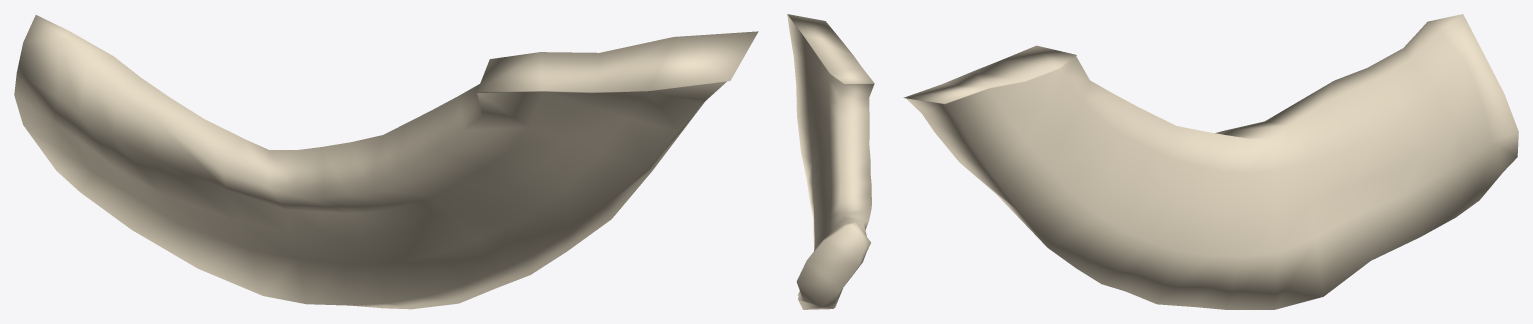
Rendered from costal-cartilage-of-tenth-rib-r.glb.
3 renders of one model, left to right at view 1: azimuth 30°, elevation 25°; view 2: azimuth 150°, elevation 25°; view 3: azimuth 270°, elevation 25°, orthographic. The views are drawn at different scales.
Visible parts, largest first — view 1: Costal cartilage of tenth rib.r; view 2: Costal cartilage of tenth rib.r; view 3: Costal cartilage of tenth rib.r.
Boxes of the visible parts, x1,y1,x2,y2 form: Costal cartilage of tenth rib.r: (14, 15, 758, 309); Costal cartilage of tenth rib.r: (787, 14, 874, 309); Costal cartilage of tenth rib.r: (903, 14, 1518, 309).
Size of the model in its own units: 0.0502 by 0.0378 by 0.0695.
